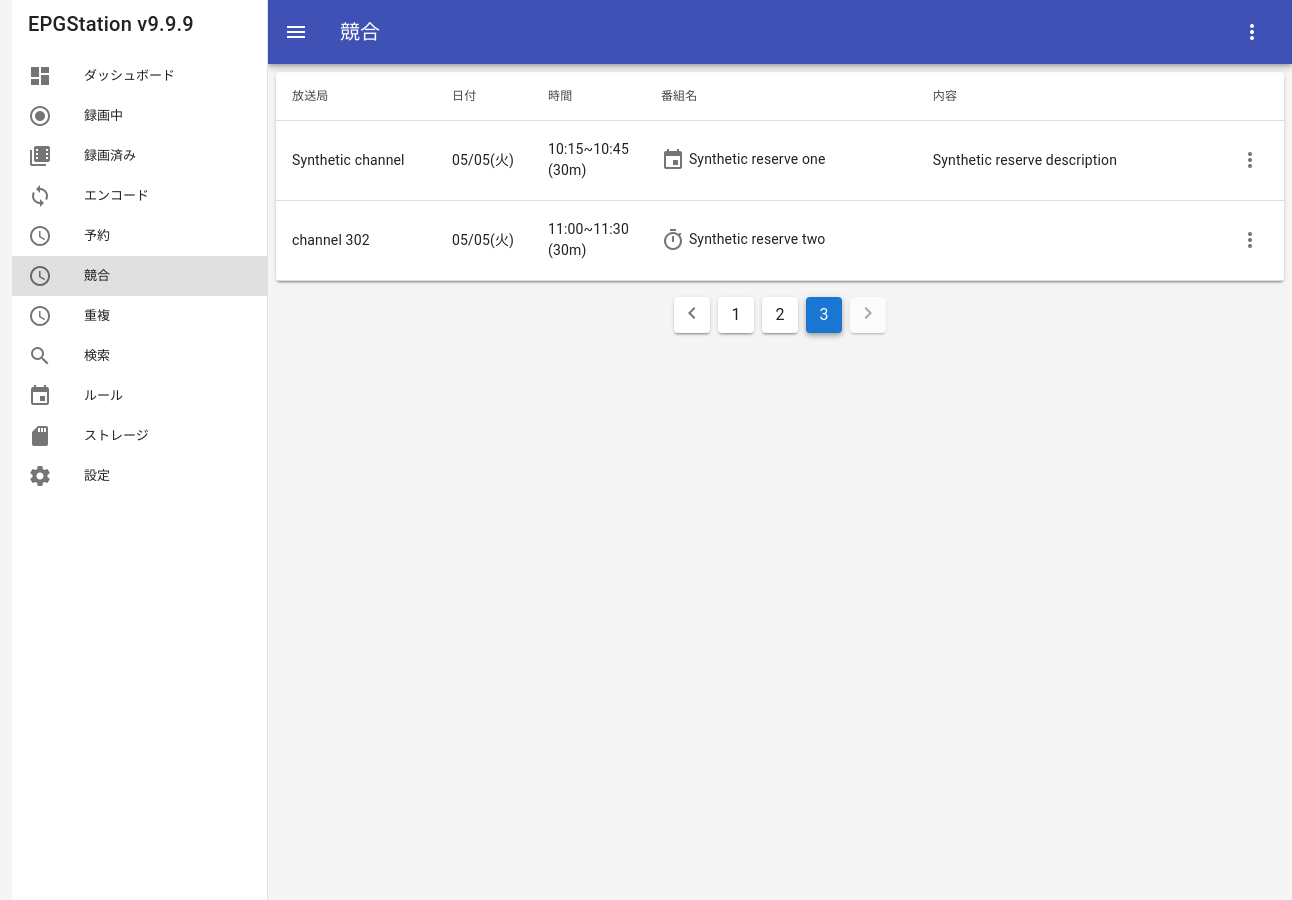
Reserves delete, unlock and update actions › [AC 2.8] [AC 2.18] runs reserve update from title bar without direct list refetch
Check: the text "Synthetic reserve one" is shown, box 689,151 -> 826,167
Click the button named "予約メニュー".
click(1252, 32)  # box 1228,8 -> 1276,56
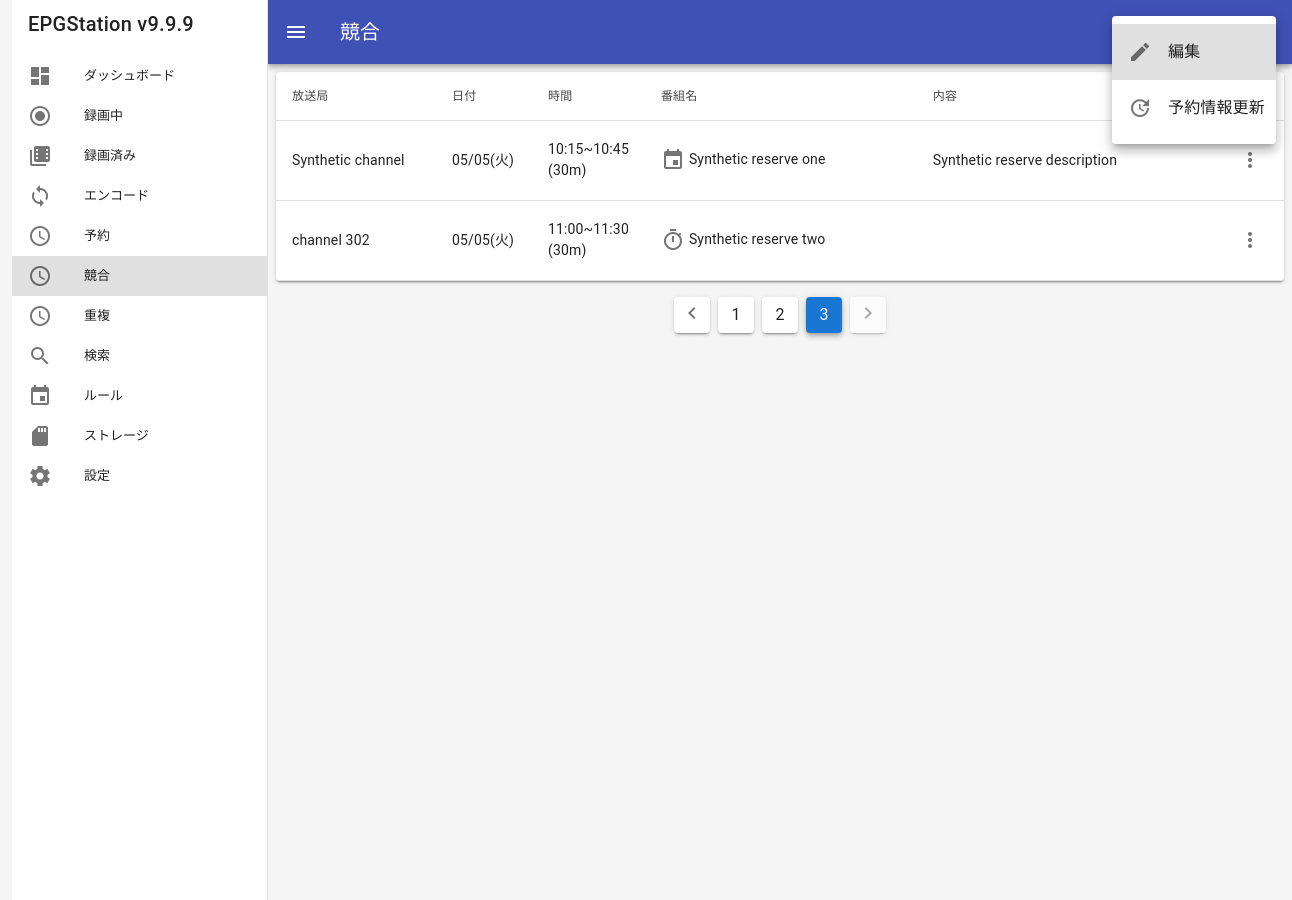
Click the menu item "予約情報更新".
click(1196, 108)  # box 1128,96 -> 1265,120
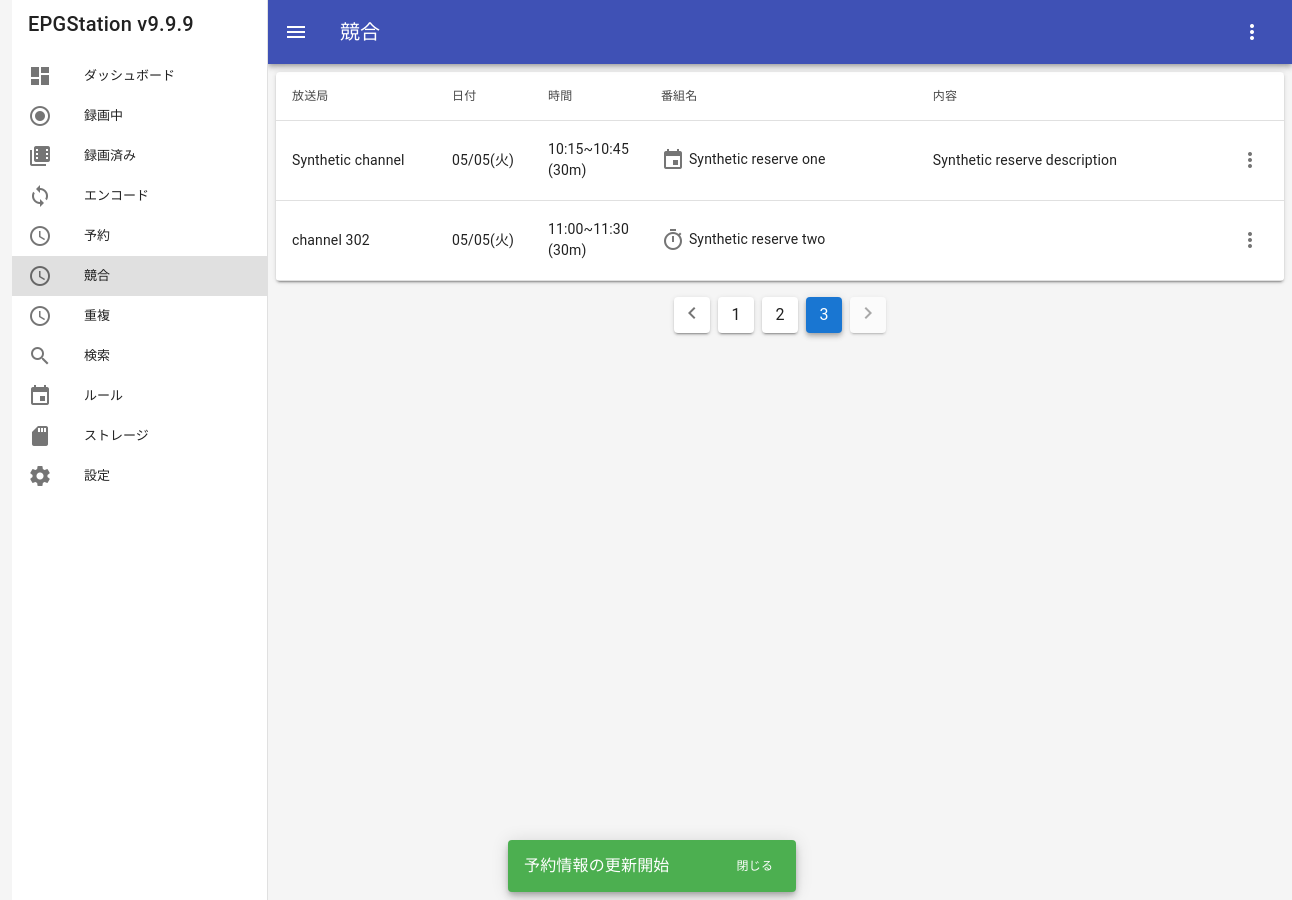
Check: the message shows "予約情報の更新開始", box 524,856 -> 670,875
